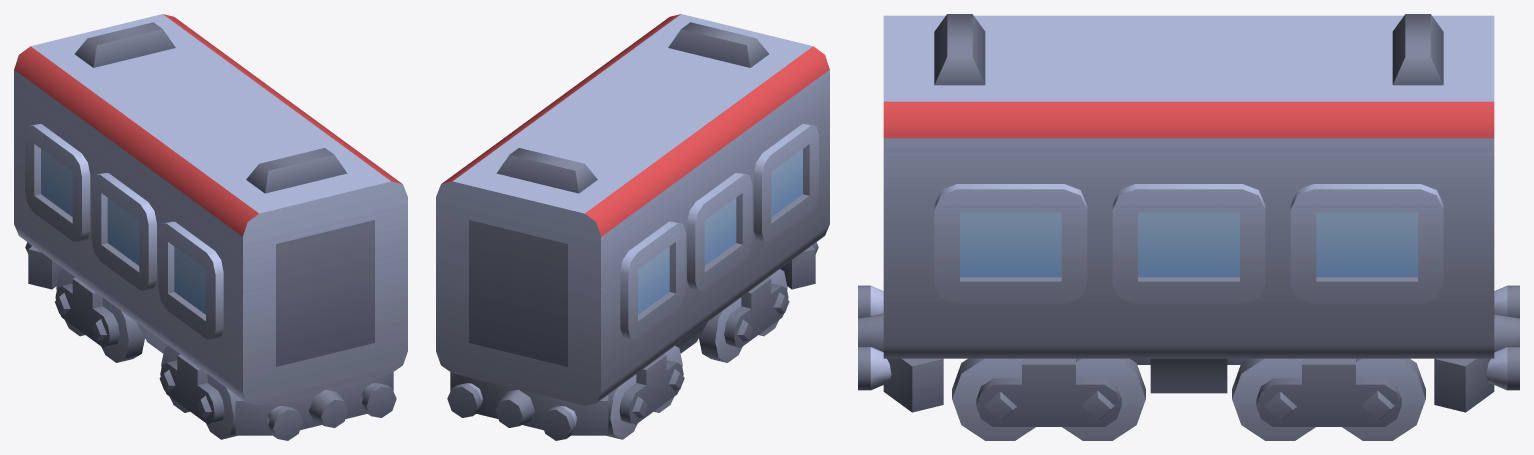
Rendered from train-subwayB.glb.
3 views of the same model, side by side, from view 1: azimuth 30°, elevation 25°; view 2: azimuth 150°, elevation 25°; view 3: azimuth 270°, elevation 25° (orthographic). The views are drawn at different scales.
Parts seen in each view (by area): view 1: train-electric-subway-b; view 2: train-electric-subway-b; view 3: train-electric-subway-b.
Part boxes in pixels (x1,y1,x2,y2): train-electric-subway-b: (14,14,407,440); train-electric-subway-b: (436,14,829,440); train-electric-subway-b: (858,14,1519,440).
Bounding box in the file's own units: 1.1 × 1.57 × 2.6.
Materials: 1 (1 with a texture image).
